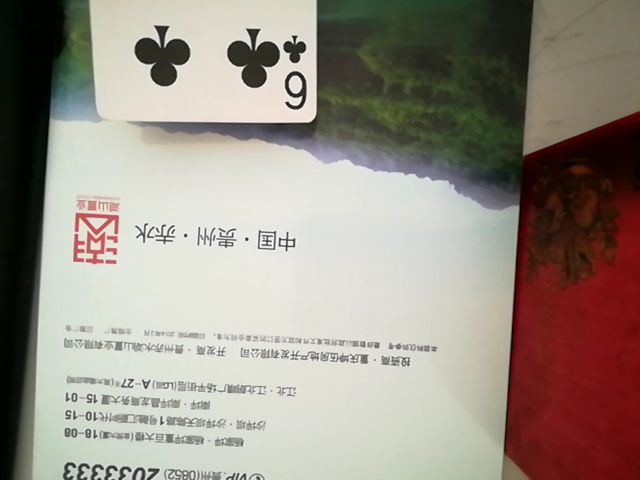mh 6: (87, 1, 325, 129)
